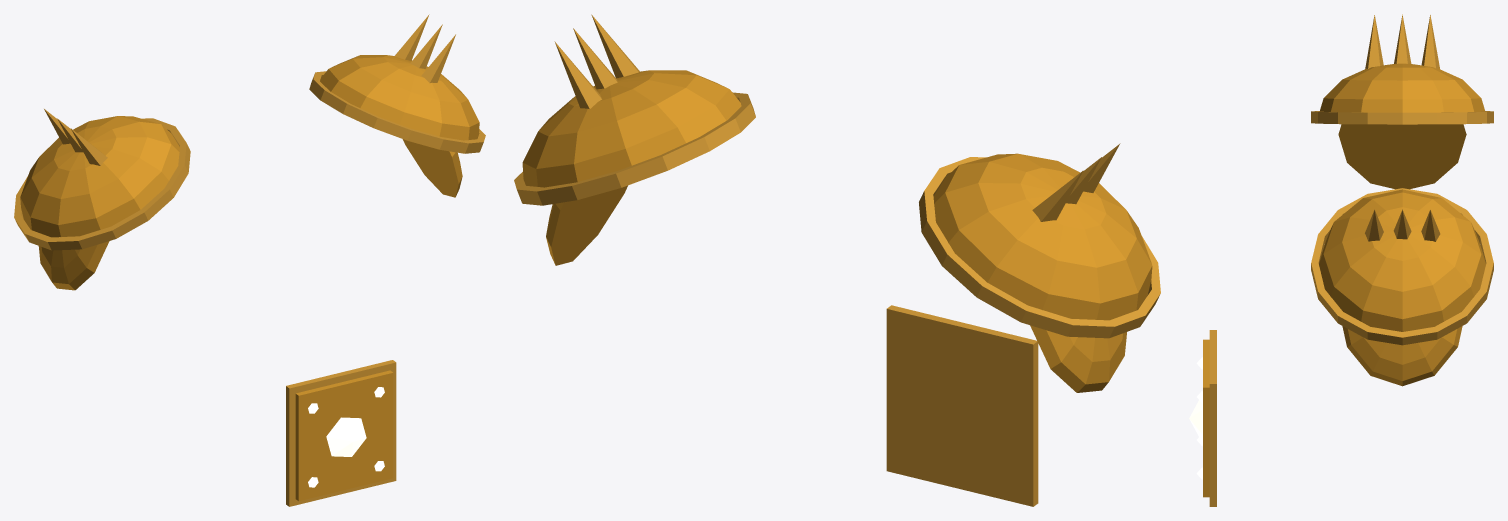
Rendered from armor_guard_chest_legendary_human.glb.
3 views of the same model, side by side, from view 1: azimuth 30°, elevation 25°; view 2: azimuth 150°, elevation 25°; view 3: azimuth 270°, elevation 25° (orthographic). The views are drawn at different scales.
Visible parts, largest first — view 1: armor_guard_chest_legendary_human__clavicle_r, armor_guard_chest_legendary_human__clavicle_l, armor_guard_chest_legendary_human__spine_03; view 2: armor_guard_chest_legendary_human__clavicle_r, armor_guard_chest_legendary_human__clavicle_l, armor_guard_chest_legendary_human__spine_03; view 3: armor_guard_chest_legendary_human__clavicle_l, armor_guard_chest_legendary_human__clavicle_r, armor_guard_chest_legendary_human__spine_03.
Boxes of the visible parts, x1,y1,x2,y2 form: armor_guard_chest_legendary_human__clavicle_r: (14,109,190,290); armor_guard_chest_legendary_human__clavicle_l: (309,14,485,197); armor_guard_chest_legendary_human__spine_03: (286,360,396,506); armor_guard_chest_legendary_human__clavicle_r: (919,143,1160,392); armor_guard_chest_legendary_human__clavicle_l: (514,14,755,265); armor_guard_chest_legendary_human__spine_03: (886,305,1038,506); armor_guard_chest_legendary_human__clavicle_l: (1311,188,1493,386); armor_guard_chest_legendary_human__clavicle_r: (1311,14,1493,189); armor_guard_chest_legendary_human__spine_03: (1189,330,1216,506).
Size of the model in its own units: 73.09 by 55.15 by 41.36.
